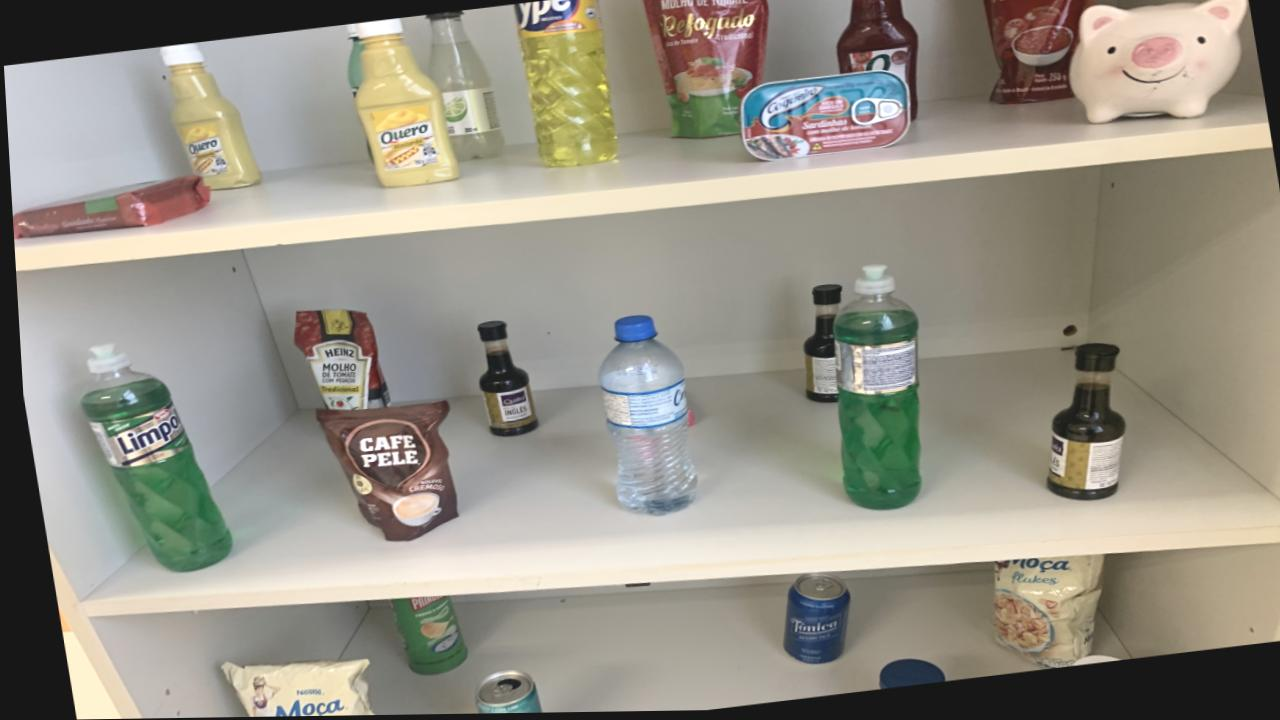Coffee-Pantry_Items: (311, 401, 452, 542)
Detergent-Cleanup_Items: (75, 345, 225, 572), (829, 268, 916, 512), (514, 0, 616, 168)
English_Sauce-Pantry_Items: (1040, 346, 1120, 503), (474, 321, 534, 438), (799, 287, 839, 405)
Flakes-Snacks: (985, 557, 1097, 670), (213, 659, 367, 718)
Guarana-Drinks: (346, 37, 364, 96)
Guava-Snacks: (10, 174, 208, 238)
Ketchup-Pantry_Items: (835, 0, 918, 122)
Mayonnaise-Pantry_Items: (870, 661, 936, 691)
Mustard-Pantry_Items: (354, 19, 456, 189), (160, 43, 260, 190)
Pig_Safe-Miscellaneous: (1068, 0, 1247, 127)
Pringles-Snacks: (385, 596, 459, 676)
Soda-Drinks: (427, 12, 503, 162)
Tea-Drinks: (466, 670, 533, 715)
Tomato_Sauce-Pantry_Items: (644, 0, 769, 140), (983, 0, 1097, 107), (289, 310, 385, 411)
Tonic-Drinks: (774, 575, 843, 666)
Tuna_Can-Pantry_Items: (738, 74, 909, 164)
Water_Bottle-Drinks: (594, 317, 692, 517)
